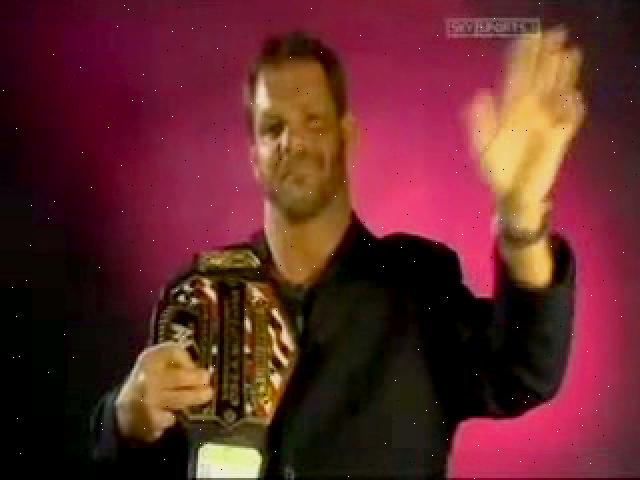L: (92, 28, 579, 479)
